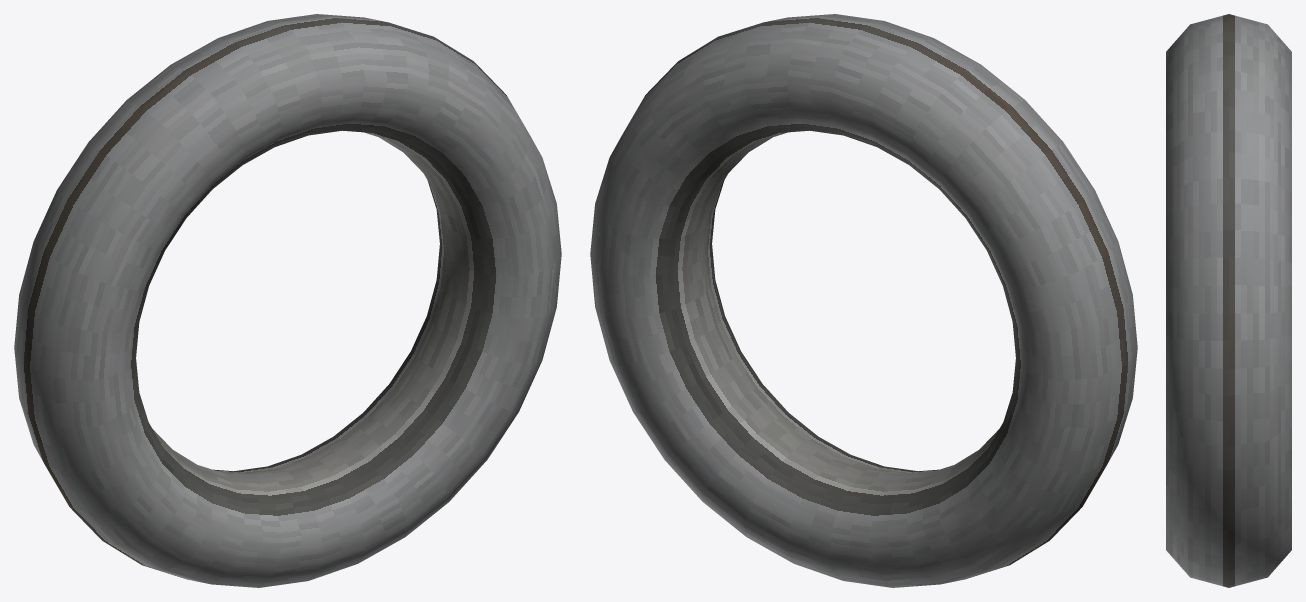
Rendered from clamp.glb.
3 views of the same model, side by side, from view 1: azimuth 30°, elevation 25°; view 2: azimuth 150°, elevation 25°; view 3: azimuth 270°, elevation 25° (orthographic). The views are drawn at different scales.
Parts seen in each view (by area): view 1: loop; view 2: loop; view 3: loop.
Boxes of the visible parts, x1=… form: loop: x1=14, y1=14, x2=561, y2=587; loop: x1=590, y1=14, x2=1137, y2=587; loop: x1=1166, y1=14, x2=1291, y2=587.
Size of the model in its own units: 0.16 by 0.16 by 0.035.
1 material, 1 textured.
